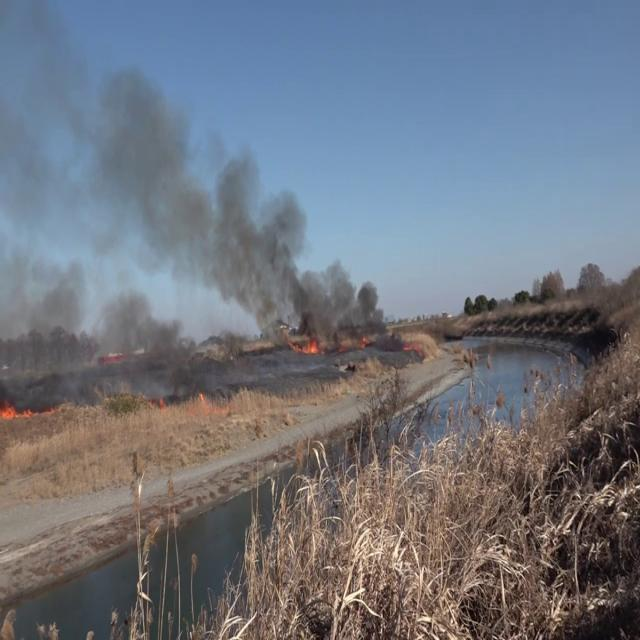Smoke: (49, 40, 388, 359)
